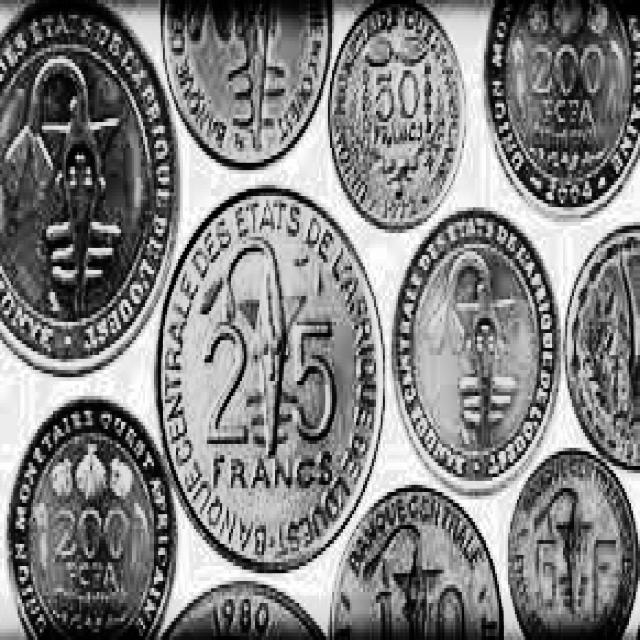derem: (509, 450, 639, 639)
fukk: (329, 2, 465, 229)
juroom derem: (159, 191, 383, 570)
niaari derem: (333, 488, 503, 639), (566, 226, 640, 469)
niaari fukk: (163, 0, 330, 166)
nient fukk: (393, 208, 559, 492), (7, 399, 175, 639), (486, 0, 640, 217)
teemeer: (0, 6, 179, 374)
